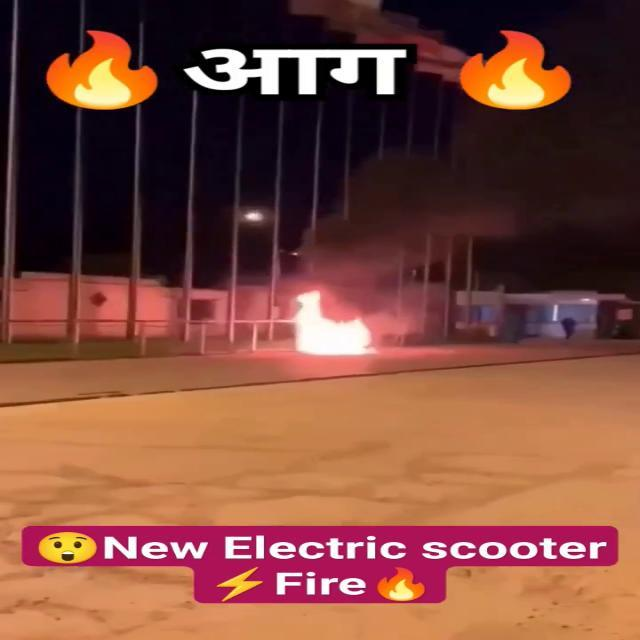Fire: (277, 282, 385, 360)
Smoke: (314, 112, 640, 242)
